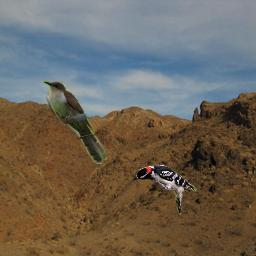Cuckoo: (42, 79, 107, 164)
Woodpecker: (133, 164, 198, 217)
